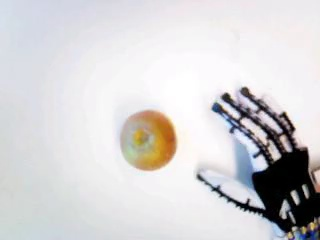apple: (120, 109, 176, 170)
hand: (197, 86, 320, 240)
